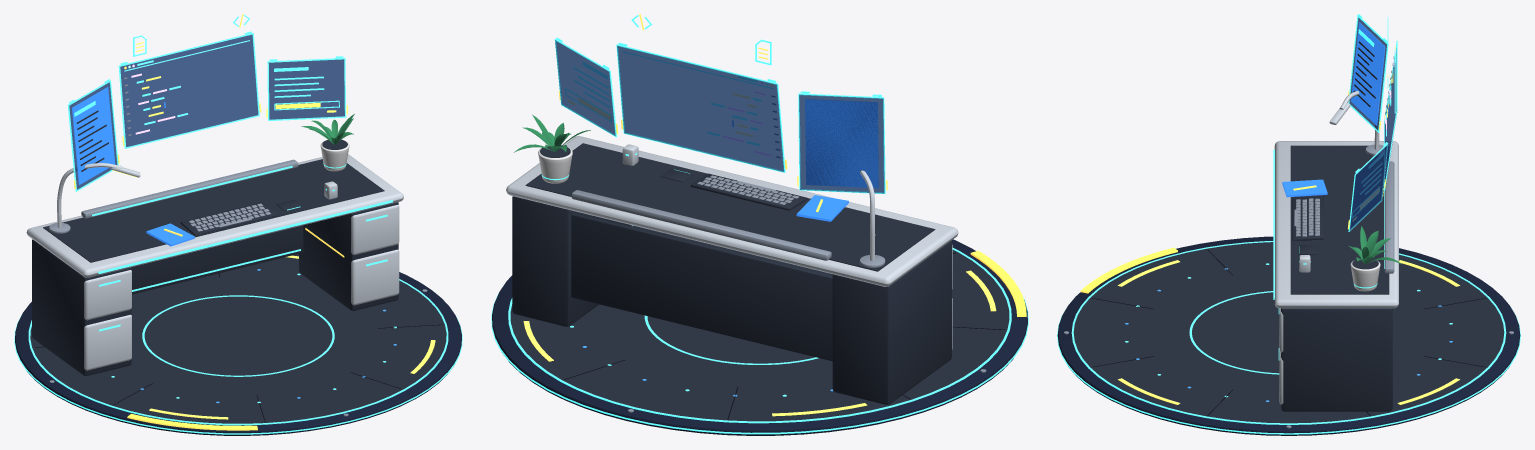
File: writing_desk.glb
The picture shows the model from 3 angles, left to right: view 1: azimuth 30°, elevation 25°; view 2: azimuth 150°, elevation 25°; view 3: azimuth 270°, elevation 25°; orthographic projection. The views are drawn at different scales.
Parts seen in each view (by area): view 1: writing_desk; view 2: writing_desk; view 3: writing_desk.
Boxes of the visible parts, x1,y1,x2,y2 form: writing_desk: (14, 14, 462, 435); writing_desk: (491, 14, 1028, 435); writing_desk: (1057, 14, 1520, 435).
Size of the model in its own units: 2.91 by 2.03 by 2.91.
